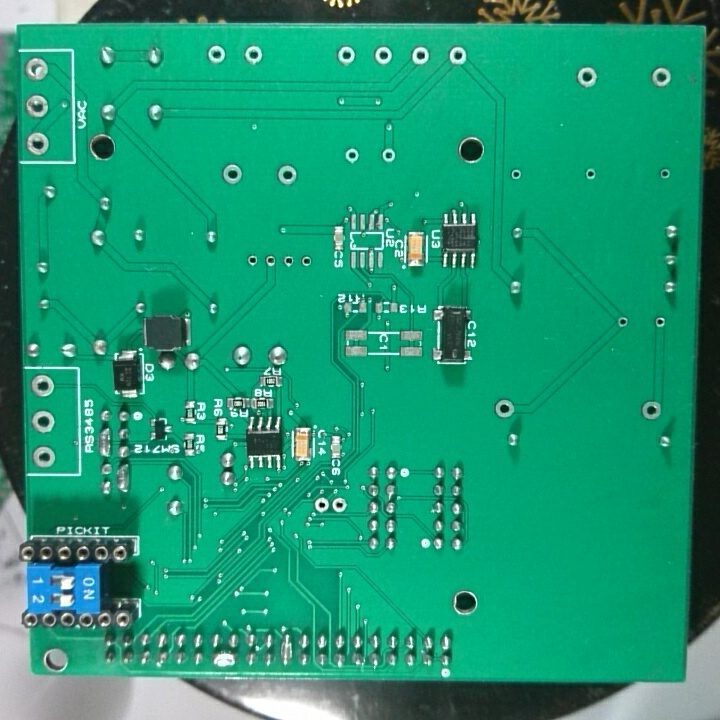F: (22, 56, 51, 84), (22, 92, 50, 120), (23, 130, 51, 158), (28, 372, 56, 400), (30, 409, 57, 437), (31, 444, 59, 471), (648, 65, 674, 91), (240, 41, 266, 67), (219, 161, 245, 187), (492, 397, 517, 423), (408, 43, 433, 69), (275, 161, 299, 188), (575, 64, 599, 90), (371, 43, 395, 69), (202, 42, 228, 66), (447, 44, 471, 69), (334, 43, 358, 68), (639, 397, 664, 420), (329, 494, 351, 518), (312, 494, 330, 519), (582, 163, 602, 185), (343, 144, 362, 167), (379, 145, 398, 167), (260, 251, 279, 272), (279, 251, 297, 272), (651, 312, 669, 331), (507, 165, 525, 183), (296, 253, 314, 271), (244, 252, 261, 271), (657, 163, 673, 183), (614, 314, 631, 331)
P: (207, 649, 239, 669), (114, 461, 132, 495), (278, 632, 293, 667), (99, 427, 115, 458)
